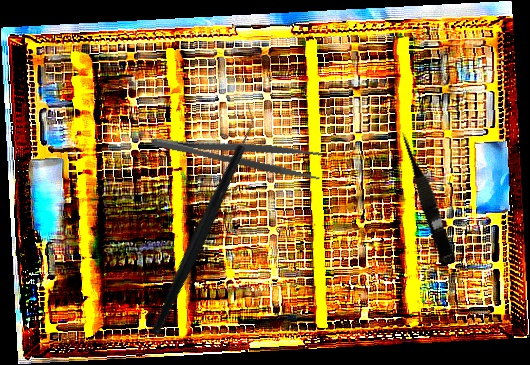Chopper: (84, 100, 321, 337)
Dressing Forceps: (149, 119, 326, 183)
Micro Scissor: (396, 128, 460, 267)
